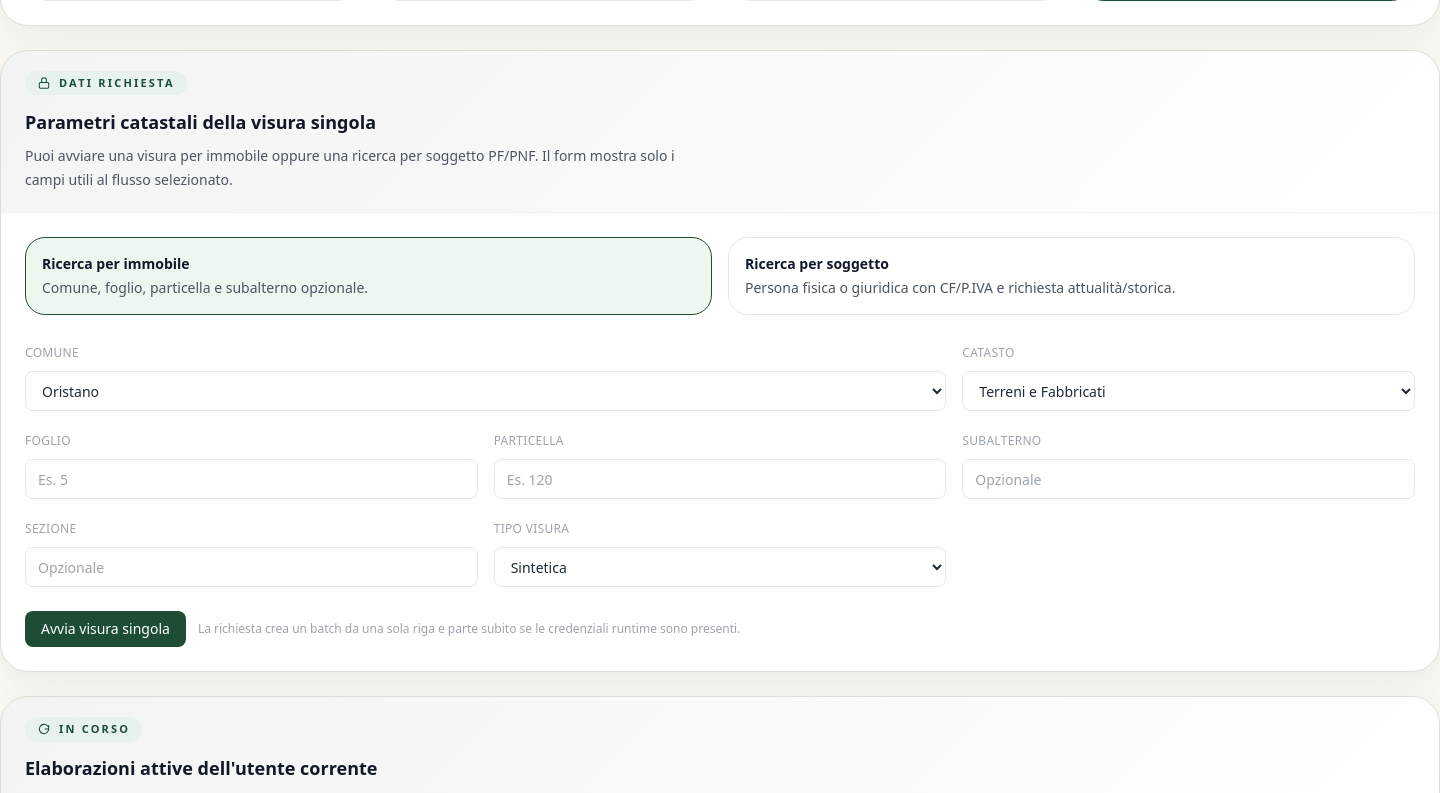
it: ElaborazioneRequestWorkspace › shows validation messages for invalid immobile fields
(page scrolled)
Select "Seleziona comune" in the dropdown labelled "Comune". click: (486, 391)
box: x1=25 y1=371 x2=946 y2=411
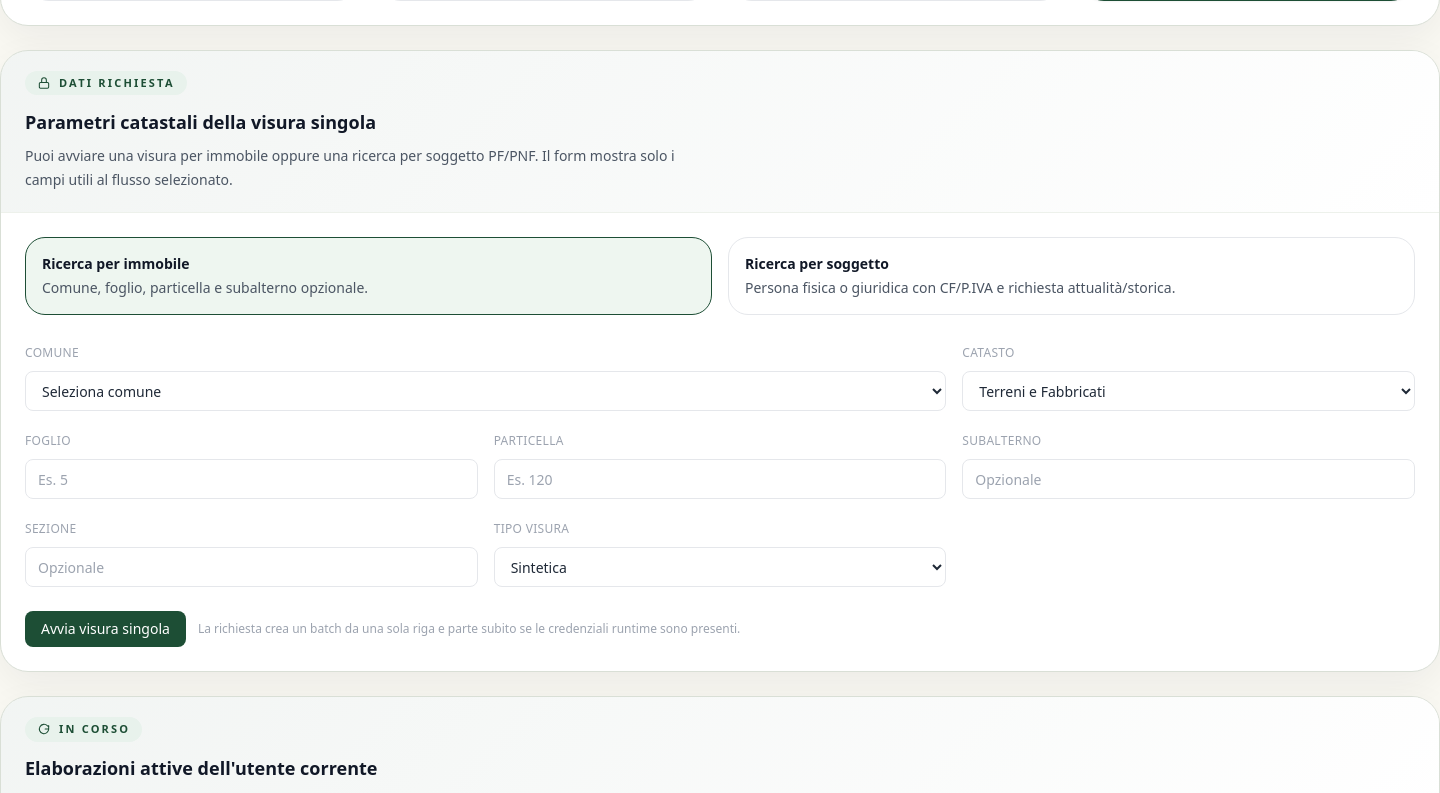
Type "ab" into the field with placeholder "Es. 5". click: (251, 479)
box: x1=25 y1=459 x2=478 y2=499
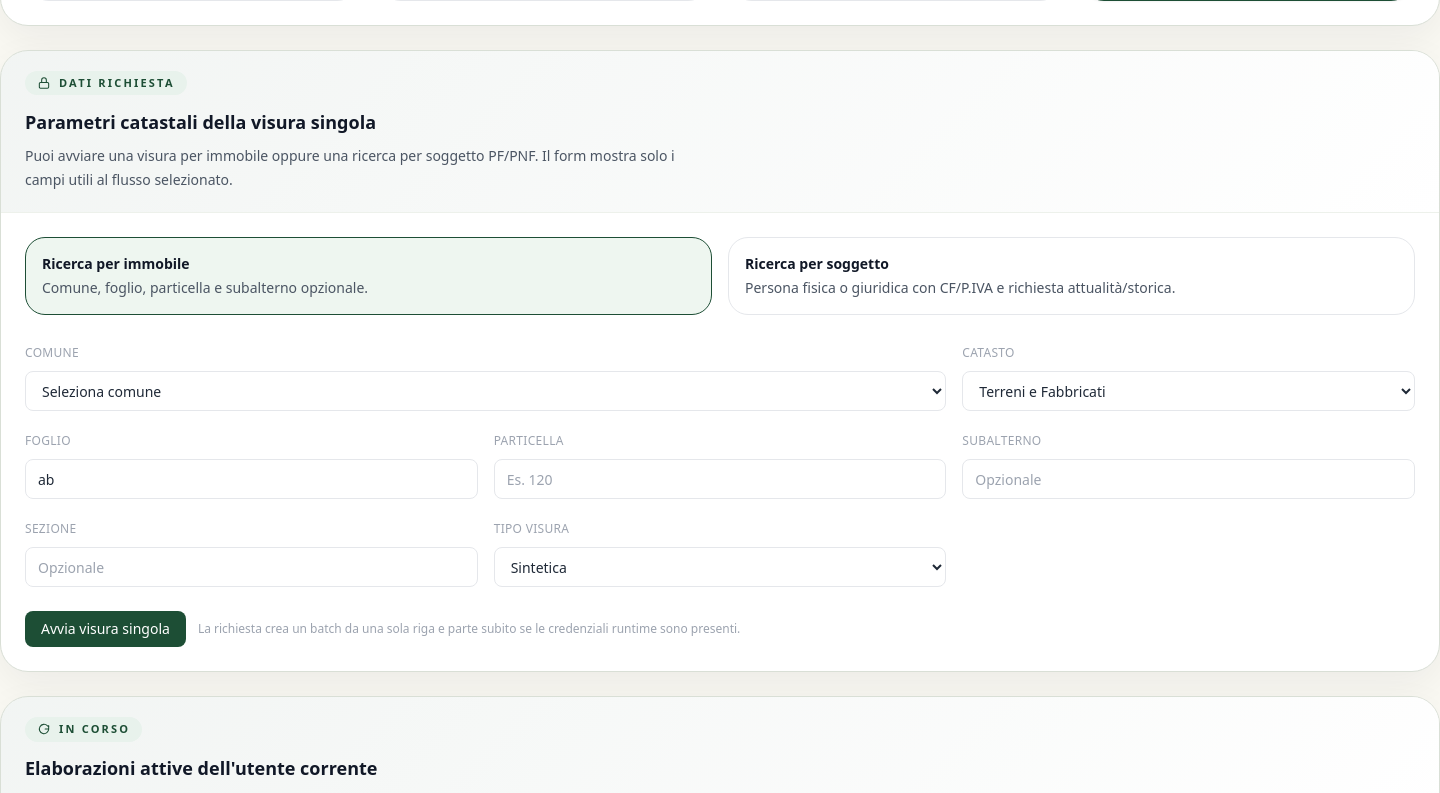
Type "xy" into the field with placeholder "Es. 120". click: (720, 479)
box: x1=494 y1=459 x2=946 y2=499
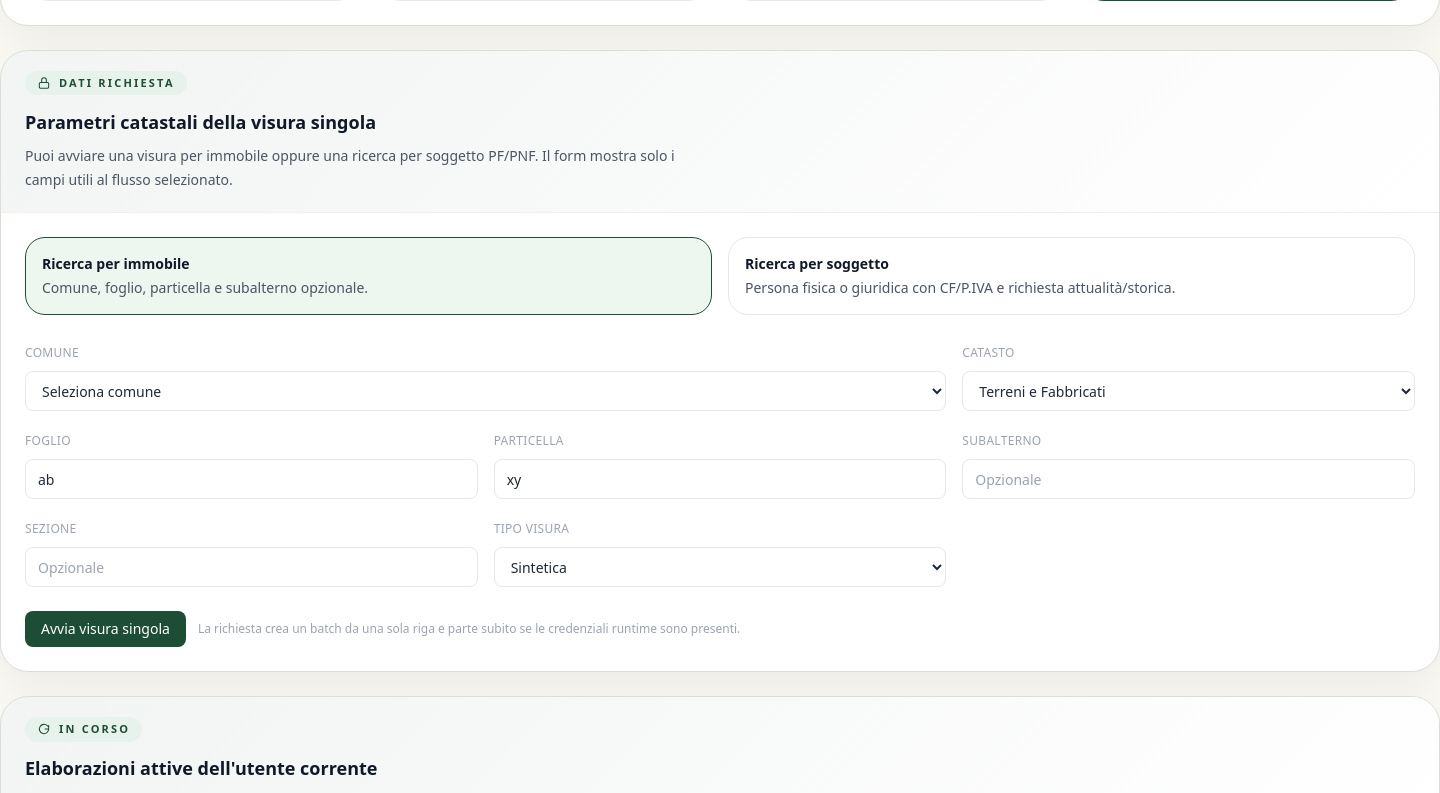
Type "sub" into the field labelled "Subalterno". click: (1189, 479)
box: x1=962 y1=459 x2=1415 y2=499
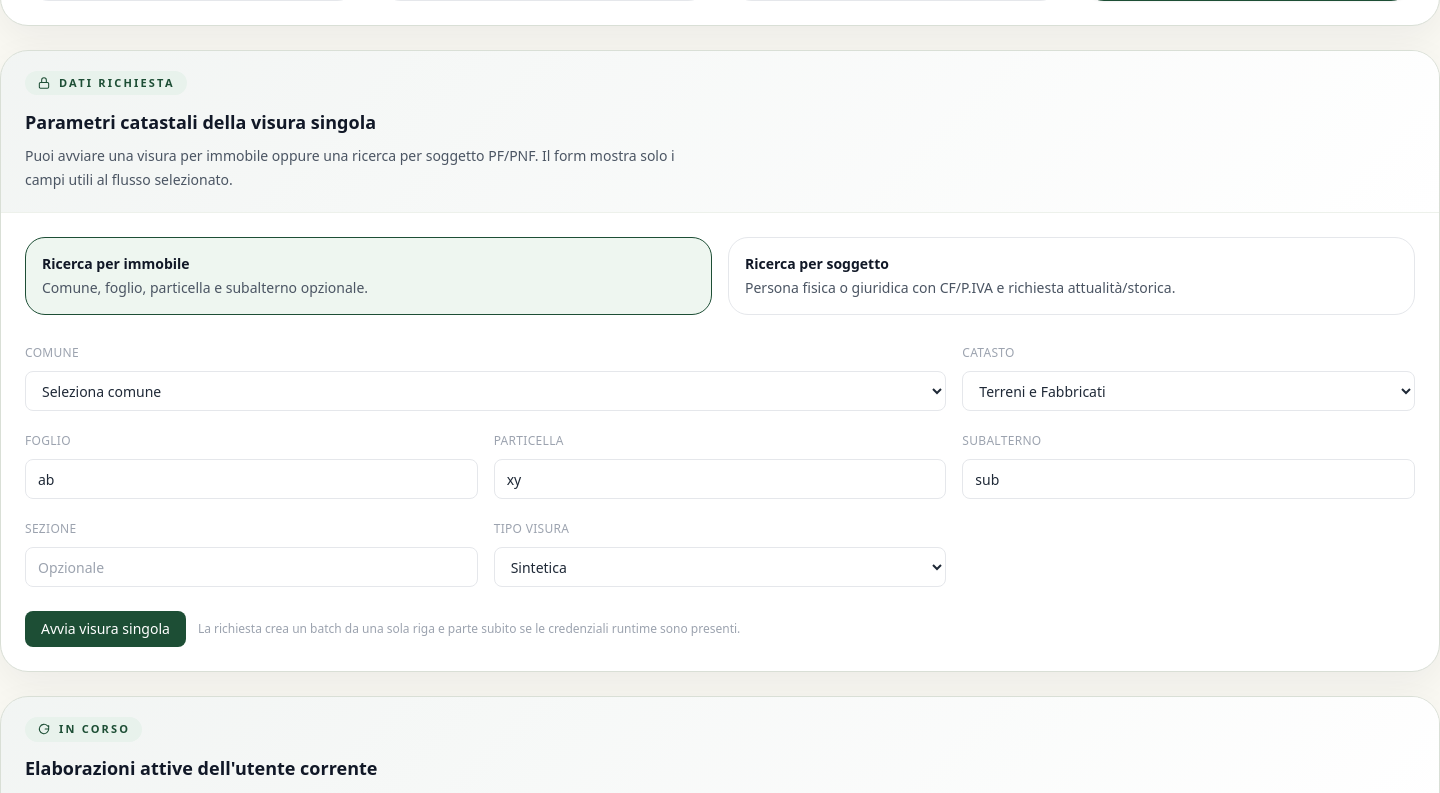
Click the button "Avvia visura singola". click: (105, 629)
box: x1=25 y1=611 x2=186 y2=647
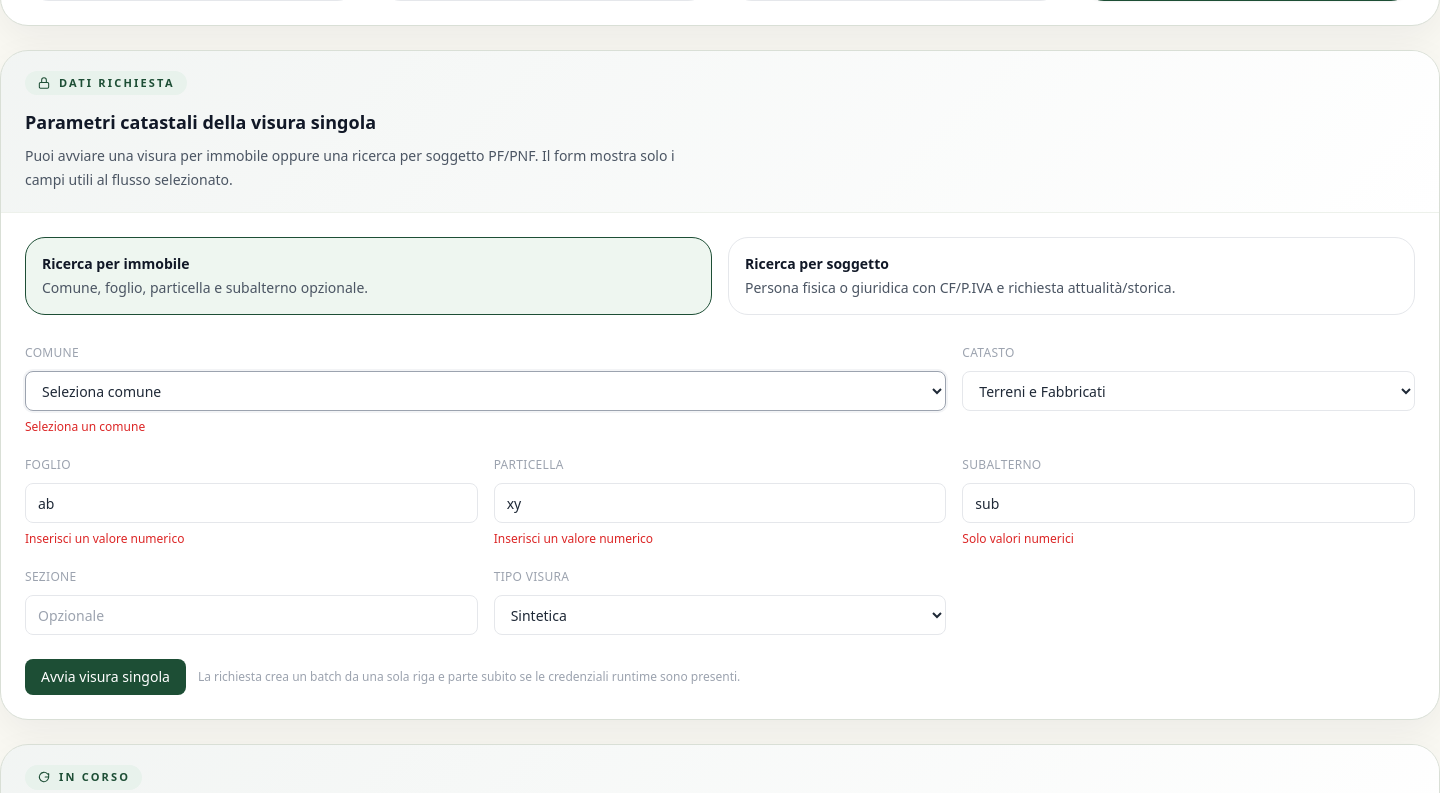
expect the text "Seleziona un comune" is shown: met, box x1=25 y1=418 x2=145 y2=435
expect the text "Inserisci un valore numerico" is shown 2 times: met, box x1=25 y1=530 x2=184 y2=547; x1=494 y1=530 x2=653 y2=547
expect the text "Solo valori numerici" is shown: met, box x1=962 y1=530 x2=1074 y2=547
